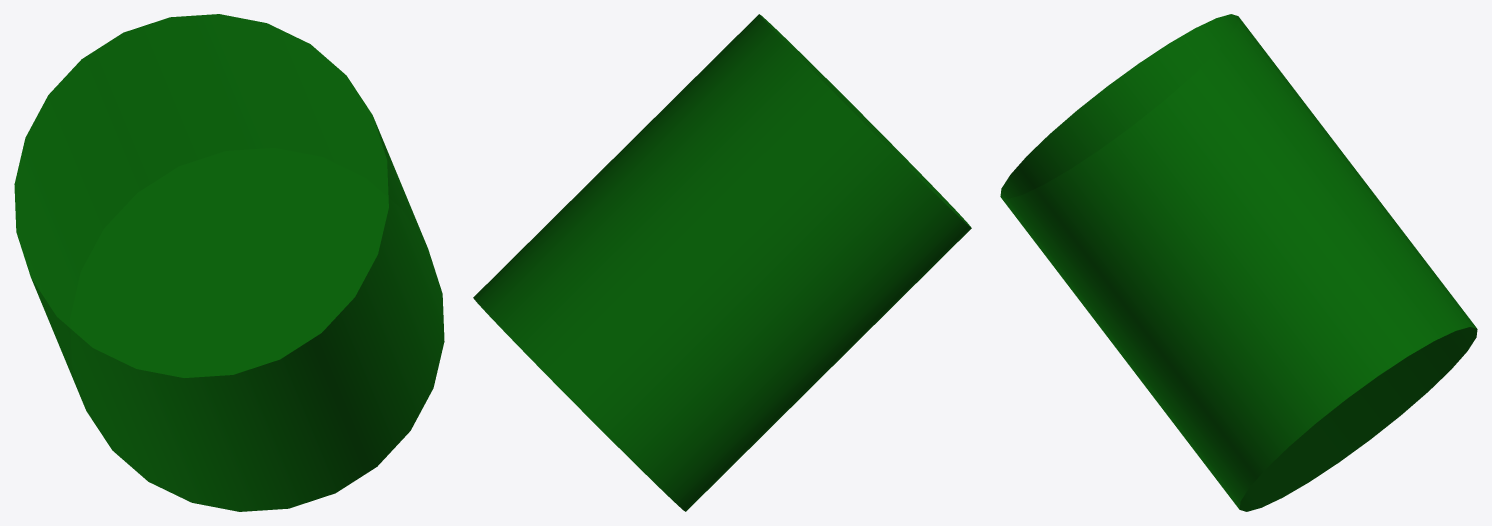
Rendered from Event_421115418_jet_9.fbx.
3 renders of one model, left to right at view 1: azimuth 30°, elevation 25°; view 2: azimuth 150°, elevation 25°; view 3: azimuth 270°, elevation 25°, orthographic. The views are drawn at different scales.
Visible parts, largest first — view 1: Model; view 2: Model; view 3: Model.
Part boxes in pixels (x1,y1,x2,y2): Model: (14, 14, 444, 511); Model: (473, 14, 971, 511); Model: (1000, 14, 1477, 511).
Size of the model in its own units: 0.0604 by 0.065 by 0.0638.
